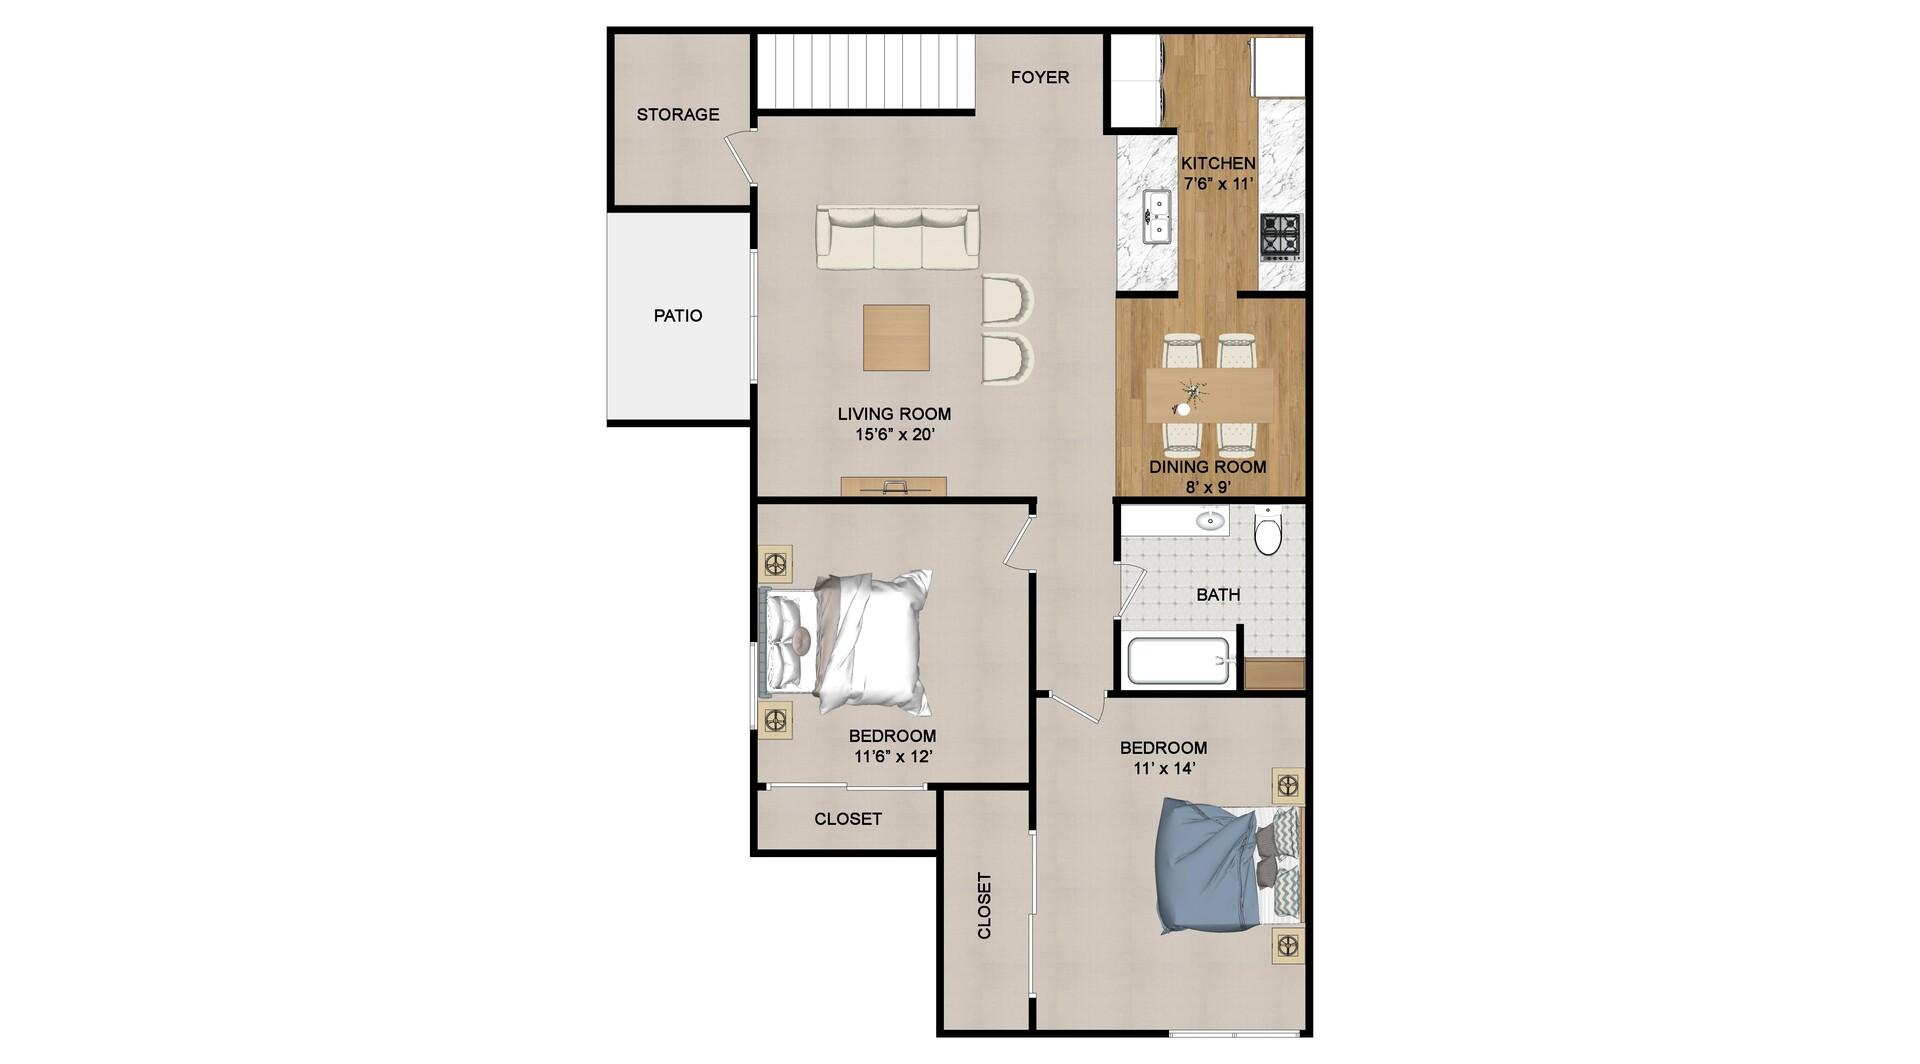room: (753, 111, 1118, 501), (1035, 693, 1310, 1034), (752, 499, 1035, 786), (1105, 30, 1310, 295), (1117, 292, 1310, 502), (1117, 501, 1310, 694), (612, 30, 753, 208), (939, 785, 1033, 1034), (753, 788, 942, 854)
